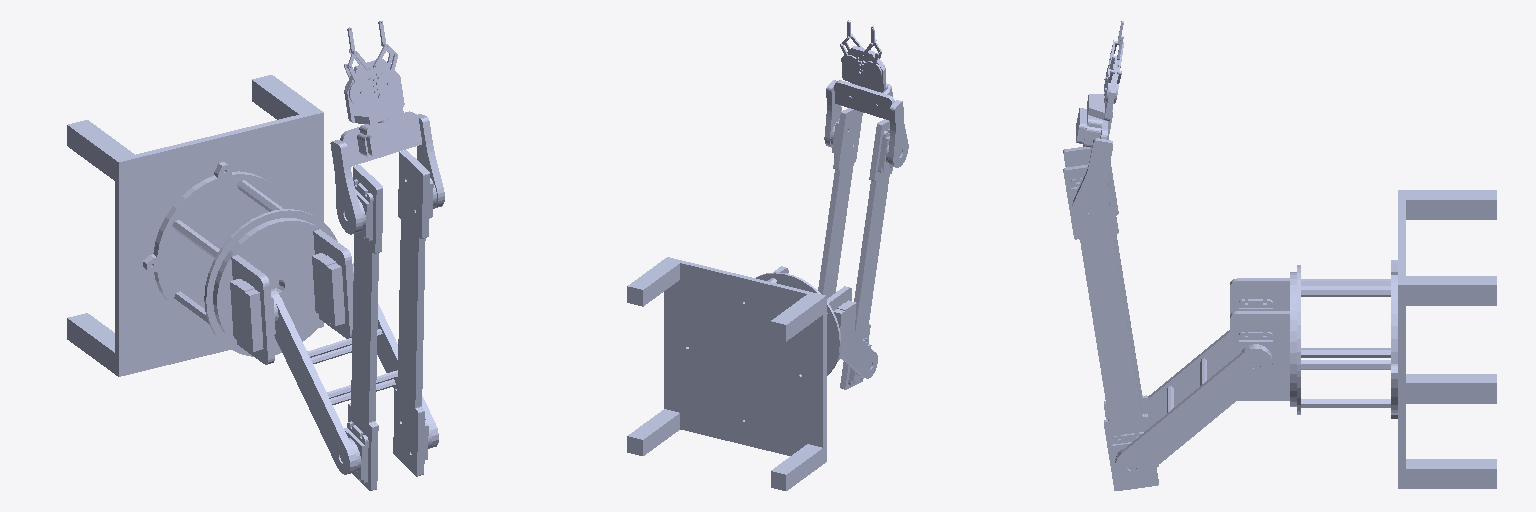
URDF robot description (robotmodel):
<?xml version="1.0" encoding="utf-8"?>
<!-- This URDF was automatically created by SolidWorks to URDF Exporter! Originally created by [author] ([email redacted]) 
     Commit Version: 1.5.1-0-g916b5db  Build Version: 1.5.7152.31018
     For more information, please see http://wiki.ros.org/sw_urdf_exporter -->
<robot
  name="robotmodel">
  <link
    name="base_link">
    <inertial>
      <origin
        xyz="0.091266931027055 0.31770864439364 0.381689562361035"
        rpy="0 0 0" />
      <mass
        value="2.4561177468961" />
      <inertia
        ixx="0.0119353266896652"
        ixy="-5.59392364671776E-05"
        ixz="3.648585422869E-05"
        iyy="0.0127688283426464"
        iyz="2.47137463707323E-06"
        izz="0.0190751105246607" />
    </inertial>
    <visual>
      <origin
        xyz="0 0 0"
        rpy="0 0 0" />
      <geometry>
        <mesh
          filename="package://robotmodel/meshes/base_link.STL" />
      </geometry>
      <material
        name="">
        <color
          rgba="0.792156862745098 0.819607843137255 0.933333333333333 1" />
      </material>
    </visual>
    <collision>
      <origin
        xyz="0 0 0"
        rpy="0 0 0" />
      <geometry>
        <mesh
          filename="package://robotmodel/meshes/base_link.STL" />
      </geometry>
    </collision>
  </link>
  <link
    name="rotate base">
    <inertial>
      <origin
        xyz="-0.000479925361132075 -3.31761950371767E-05 0.113906202895831"
        rpy="0 0 0" />
      <mass
        value="1.19922335564864" />
      <inertia
        ixx="0.00465109427249343"
        ixy="-5.46165088272668E-05"
        ixz="3.64803945469887E-05"
        iyy="0.00546491004158192"
        iyz="2.55299516267252E-06"
        izz="0.00554047689656755" />
    </inertial>
    <visual>
      <origin
        xyz="0 0 0"
        rpy="0 0 0" />
      <geometry>
        <mesh
          filename="package://robotmodel/meshes/rotate base.STL" />
      </geometry>
      <material
        name="">
        <color
          rgba="0.792156862745098 0.819607843137255 0.933333333333333 1" />
      </material>
    </visual>
    <collision>
      <origin
        xyz="0 0 0"
        rpy="0 0 0" />
      <geometry>
        <mesh
          filename="package://robotmodel/meshes/rotate base.STL" />
      </geometry>
    </collision>
  </link>
  <joint
    name="rotate base"
    type="fixed">
    <origin
      xyz="0.0918878731467267 -0.346435443964538 0.31775070399833"
      rpy="1.5707963267949 0 0" />
    <parent
      link="base_link" />
    <child
      link="rotate base" />
    <axis
      xyz="0 0 0" />
  </joint>
  <link
    name="lower arm">
    <inertial>
      <origin
        xyz="-0.155 -3.33066907387547E-16 -0.0550699999999998"
        rpy="0 0 0" />
      <mass
        value="0.247158355868061" />
      <inertia
        ixx="0.000866534387061447"
        ixy="-3.76760254938713E-18"
        ixz="6.51879531497214E-19"
        iyy="0.00201398604928593"
        iyz="4.39009962950575E-19"
        izz="0.0012313026951699" />
    </inertial>
    <visual>
      <origin
        xyz="0 0 0"
        rpy="0 0 0" />
      <geometry>
        <mesh
          filename="package://robotmodel/meshes/lower arm.STL" />
      </geometry>
      <material
        name="">
        <color
          rgba="0.792156862745098 0.819607843137255 0.933333333333333 1" />
      </material>
    </visual>
    <collision>
      <origin
        xyz="0 0 0"
        rpy="0 0 0" />
      <geometry>
        <mesh
          filename="package://robotmodel/meshes/lower arm.STL" />
      </geometry>
    </collision>
  </link>
  <joint
    name="lower arm"
    type="fixed">
    <origin
      xyz="0.078904 0.035105 0.15625"
      rpy="1.5708 0.84817 1.6376" />
    <parent
      link="rotate base" />
    <child
      link="lower arm" />
    <axis
      xyz="0 0 0" />
  </joint>
  <link
    name="upper arm">
    <inertial>
      <origin
        xyz="0.0550000000000022 -0.162571615295364 0.0390699999999914"
        rpy="0 0 0" />
      <mass
        value="0.553932772437962" />
      <inertia
        ixx="0.00950068407154474"
        ixy="1.02172502229603E-16"
        ixz="9.60246016556528E-20"
        iyy="0.000128887101671353"
        iyz="-7.60266576506256E-18"
        izz="0.00961971522402867" />
    </inertial>
    <visual>
      <origin
        xyz="0 0 0"
        rpy="0 0 0" />
      <geometry>
        <mesh
          filename="package://robotmodel/meshes/upper arm.STL" />
      </geometry>
      <material
        name="">
        <color
          rgba="0.792156862745098 0.819607843137255 0.933333333333333 1" />
      </material>
    </visual>
    <collision>
      <origin
        xyz="0 0 0"
        rpy="0 0 0" />
      <geometry>
        <mesh
          filename="package://robotmodel/meshes/upper arm.STL" />
      </geometry>
    </collision>
  </link>
  <joint
    name="upper arm"
    type="fixed">
    <origin
      xyz="-0.31117 0.029882 -0.016"
      rpy="3.1416 0 -0.57437" />
    <parent
      link="lower arm" />
    <child
      link="upper arm" />
    <axis
      xyz="0 0 0" />
  </joint>
  <link
    name="lower wrist">
    <inertial>
      <origin
        xyz="-0.0599002775620069 -0.0145250651582888 -0.0390699999999921"
        rpy="0 0 0" />
      <mass
        value="0.157249507163386" />
      <inertia
        ixx="0.000103336543586529"
        ixy="-2.38357966733642E-05"
        ixz="2.06878445486865E-20"
        iyy="3.21046938039698E-05"
        iyz="-1.1024449514636E-19"
        izz="0.000132196675957652" />
    </inertial>
    <visual>
      <origin
        xyz="0 0 0"
        rpy="0 0 0" />
      <geometry>
        <mesh
          filename="package://robotmodel/meshes/lower wrist.STL" />
      </geometry>
      <material
        name="">
        <color
          rgba="0.792156862745098 0.819607843137255 0.933333333333333 1" />
      </material>
    </visual>
    <collision>
      <origin
        xyz="0 0 0"
        rpy="0 0 0" />
      <geometry>
        <mesh
          filename="package://robotmodel/meshes/lower wrist.STL" />
      </geometry>
    </collision>
  </link>
  <joint
    name="lower wrist"
    type="fixed">
    <origin
      xyz="0 -0.3712 0"
      rpy="3.1416 0 3.1416" />
    <parent
      link="upper arm" />
    <child
      link="lower wrist" />
    <axis
      xyz="0 0 0" />
  </joint>
  <link
    name="middle wrist">
    <inertial>
      <origin
        xyz="0.0650700000000001 -0.0896700233335408 -0.012715703160485"
        rpy="0 0 0" />
      <mass
        value="0.113820080301924" />
      <inertia
        ixx="1.80752904389812E-05"
        ixy="1.02171445591519E-18"
        ixz="-3.87857099065219E-19"
        iyy="7.58156761069056E-05"
        iyz="-2.20228566286118E-20"
        izz="8.93102953285944E-05" />
    </inertial>
    <visual>
      <origin
        xyz="0 0 0"
        rpy="0 0 0" />
      <geometry>
        <mesh
          filename="package://robotmodel/meshes/middle wrist.STL" />
      </geometry>
      <material
        name="">
        <color
          rgba="0.792156862745098 0.819607843137255 0.933333333333333 1" />
      </material>
    </visual>
    <collision>
      <origin
        xyz="0 0 0"
        rpy="0 0 0" />
      <geometry>
        <mesh
          filename="package://robotmodel/meshes/middle wrist.STL" />
      </geometry>
    </collision>
  </link>
  <joint
    name="middle wrist"
    type="fixed">
    <origin
      xyz="-0.032259 -0.007672 0.026"
      rpy="0.32538 1.5708 0" />
    <parent
      link="lower wrist" />
    <child
      link="middle wrist" />
    <axis
      xyz="0 0 0" />
  </joint>
  <link
    name="upper wrist">
    <inertial>
      <origin
        xyz="-0.0650424784683602 -0.0025236722009232 0.0280547142271531"
        rpy="0 0 0" />
      <mass
        value="0.0589690078993044" />
      <inertia
        ixx="2.49177280818798E-05"
        ixy="-2.58874444504596E-20"
        ixz="-2.45094660547678E-08"
        iyy="4.51186198638769E-05"
        iyz="-3.42527115552265E-06"
        izz="2.52852206008554E-05" />
    </inertial>
    <visual>
      <origin
        xyz="0 0 0"
        rpy="0 0 0" />
      <geometry>
        <mesh
          filename="package://robotmodel/meshes/upper wrist.STL" />
      </geometry>
      <material
        name="">
        <color
          rgba="0.792156862745098 0.819607843137255 0.933333333333333 1" />
      </material>
    </visual>
    <collision>
      <origin
        xyz="0 0 0"
        rpy="0 0 0" />
      <geometry>
        <mesh
          filename="package://robotmodel/meshes/upper wrist.STL" />
      </geometry>
    </collision>
  </link>
  <joint
    name="upper wrist"
    type="fixed">
    <origin
      xyz="0.00015242 -0.11681 -0.024215"
      rpy="-1.5708 0.010999 3.1416" />
    <parent
      link="middle wrist" />
    <child
      link="upper wrist" />
    <axis
      xyz="0 0 0" />
  </joint>
  <link
    name="End Effector">
    <inertial>
      <origin
        xyz="-0.0126625647226259 -0.0776625042780698 0.00497777842811054"
        rpy="0 0 0" />
      <mass
        value="0.0103411857757491" />
      <inertia
        ixx="1.11657401168925E-06"
        ixy="1.00342260007525E-07"
        ixz="-2.31213524820822E-19"
        iyy="7.60725561173644E-07"
        iyz="-6.1476063124941E-20"
        izz="1.86129491347072E-06" />
    </inertial>
    <visual>
      <origin
        xyz="0 0 0"
        rpy="0 0 0" />
      <geometry>
        <mesh
          filename="package://robotmodel/meshes/End Effector.STL" />
      </geometry>
      <material
        name="">
        <color
          rgba="0.792156862745098 0.819607843137255 0.933333333333333 1" />
      </material>
    </visual>
    <collision>
      <origin
        xyz="0 0 0"
        rpy="0 0 0" />
      <geometry>
        <mesh
          filename="package://robotmodel/meshes/End Effector.STL" />
      </geometry>
    </collision>
  </link>
  <joint
    name="End Effector"
    type="fixed">
    <origin
      xyz="-0.032287 -0.0008 -0.015816"
      rpy="-1.5708 -0.25517 0" />
    <parent
      link="upper wrist" />
    <child
      link="End Effector" />
    <axis
      xyz="0 0 0" />
  </joint>
</robot>

--- What the picture shows (computed from the rendered views, not written in the file) ---
3 views of the same robot in one strip: view 1: azimuth 30°, elevation 25°; view 2: azimuth 150°, elevation 25°; view 3: azimuth 270°, elevation 25° (orthographic).
Robot: robotmodel — 8 links, 7 joints (7 fixed); root link base_link; default pose: all joints at 0.
Links seen in each view (by area): view 1: base_link, upper arm, lower arm, lower wrist, upper wrist, middle wrist, rotate base, End Effector; view 2: base_link, upper arm, lower wrist, middle wrist, End Effector, lower arm, upper wrist, rotate base; view 3: base_link, upper arm, lower arm, lower wrist, rotate base, middle wrist, upper wrist.
Boxes of the visible links, left/top/right/bottom form: base_link: left=67, top=75, right=352, bottom=376; upper arm: left=340, top=150, right=431, bottom=490; lower arm: left=270, top=263, right=438, bottom=474; lower wrist: left=330, top=114, right=444, bottom=241; upper wrist: left=344, top=53, right=404, bottom=124; middle wrist: left=335, top=108, right=421, bottom=166; rotate base: left=223, top=233, right=353, bottom=364; End Effector: left=344, top=21, right=395, bottom=90; base_link: left=627, top=257, right=856, bottom=490; upper arm: left=818, top=108, right=892, bottom=389; lower wrist: left=824, top=80, right=908, bottom=172; middle wrist: left=834, top=80, right=900, bottom=120; End Effector: left=840, top=20, right=881, bottom=79; lower arm: left=842, top=334, right=877, bottom=378; upper wrist: left=841, top=42, right=885, bottom=91; rotate base: left=827, top=286, right=855, bottom=356; base_link: left=1230, top=190, right=1496, bottom=488; upper arm: left=1063, top=147, right=1158, bottom=490; lower arm: left=1115, top=330, right=1272, bottom=481; lower wrist: left=1071, top=110, right=1112, bottom=229; rotate base: left=1230, top=278, right=1296, bottom=406; middle wrist: left=1076, top=100, right=1107, bottom=160; upper wrist: left=1087, top=49, right=1118, bottom=120.
Bounding box of the posed robot: 0.3 × 0.5776 × 0.6502 m (x, y, z).
Meshes: 8 distinct files referenced, 8 mesh visuals loaded (8 binary STL).